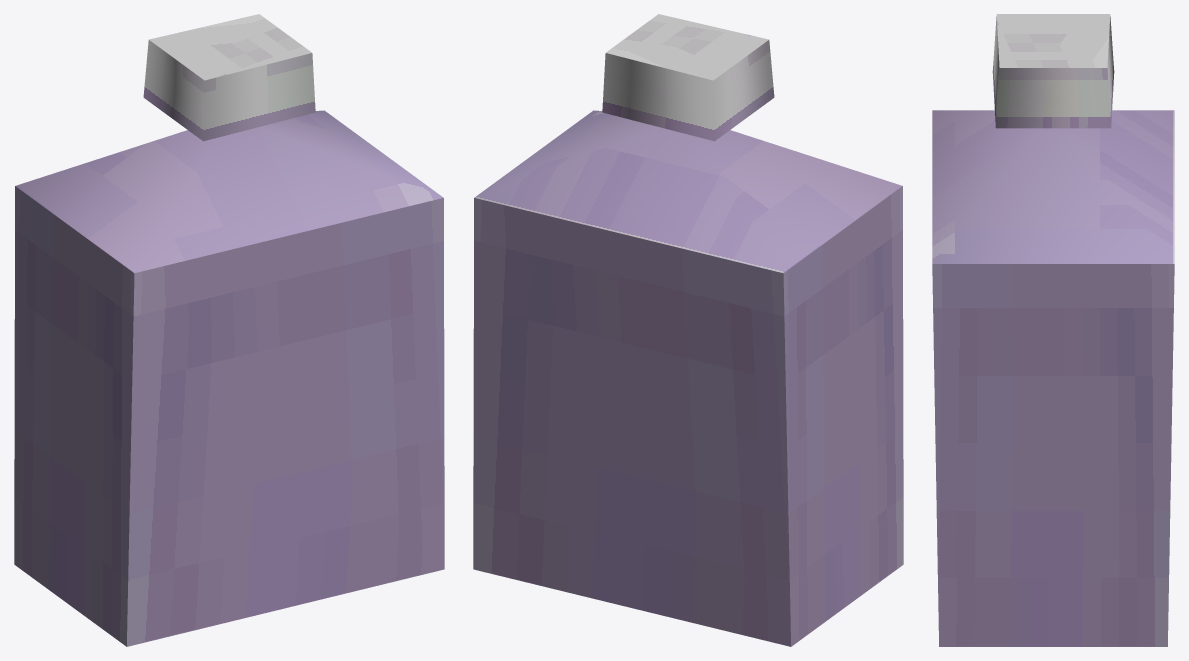
The model's file is eqp_bottle_s01_l3.fbx.
3 renders of one model, left to right at view 1: azimuth 30°, elevation 25°; view 2: azimuth 150°, elevation 25°; view 3: azimuth 270°, elevation 25°, orthographic.
Parts seen in each view (by area): view 1: mesh_node; view 2: mesh_node; view 3: mesh_node.
Part boxes in pixels (bbox=[...]): mesh_node: bbox=[14, 14, 444, 646]; mesh_node: bbox=[473, 14, 903, 646]; mesh_node: bbox=[932, 14, 1174, 646].
Bounding box in the file's own units: 0.0618 × 0.0966 × 0.0402.
